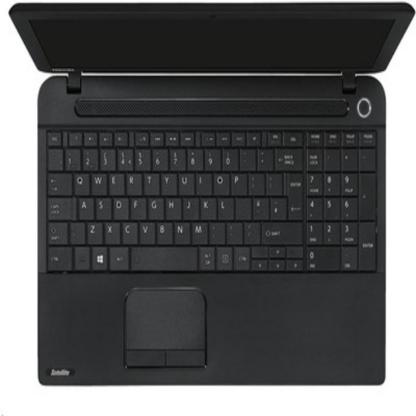board: (7, 0, 415, 384)
